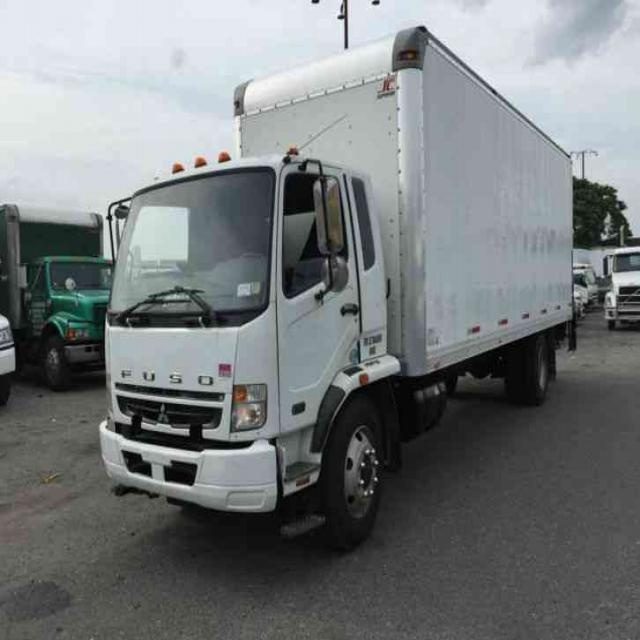Truck: (98, 25, 572, 542)
